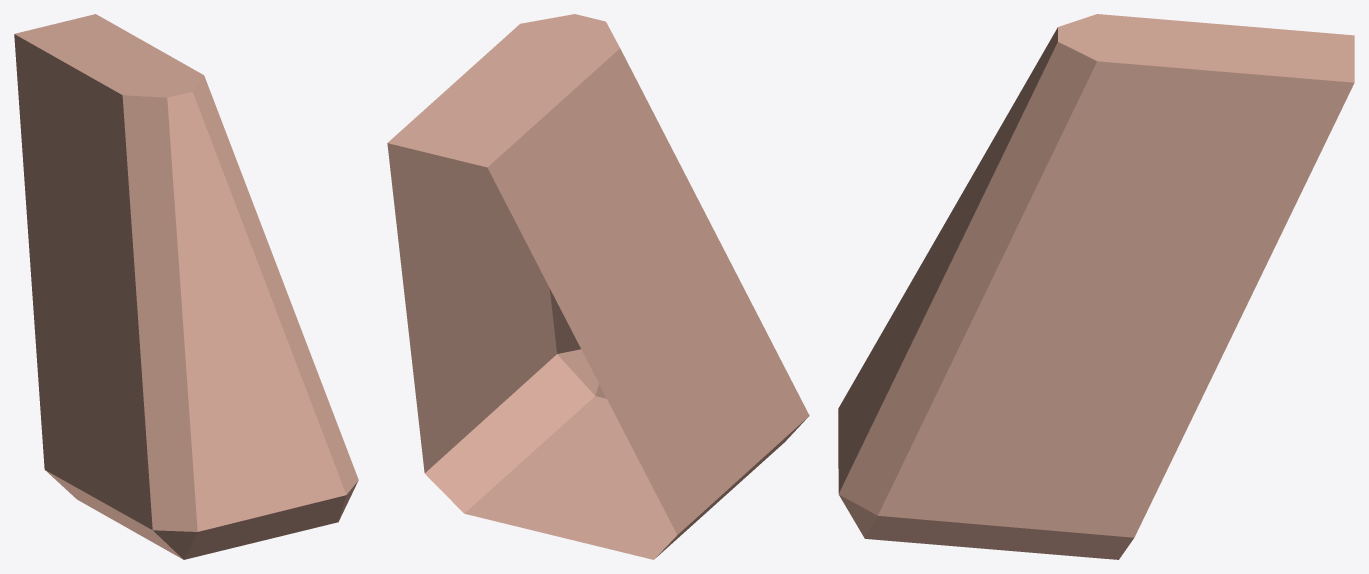
The model's file is Nariz_Larga.fbx.
3 views of the same model, side by side, from view 1: azimuth 30°, elevation 25°; view 2: azimuth 150°, elevation 25°; view 3: azimuth 270°, elevation 25° (orthographic). The views are drawn at different scales.
Parts seen in each view (by area): view 1: Nariz_Normal; view 2: Nariz_Normal; view 3: Nariz_Normal.
Part boxes in pixels (x1,y1,x2,y2): Nariz_Normal: [14, 14, 358, 559]; Nariz_Normal: [387, 14, 809, 559]; Nariz_Normal: [838, 14, 1354, 559].
Bounding box in the file's own units: 0.4171 × 0.7824 × 0.7615.
